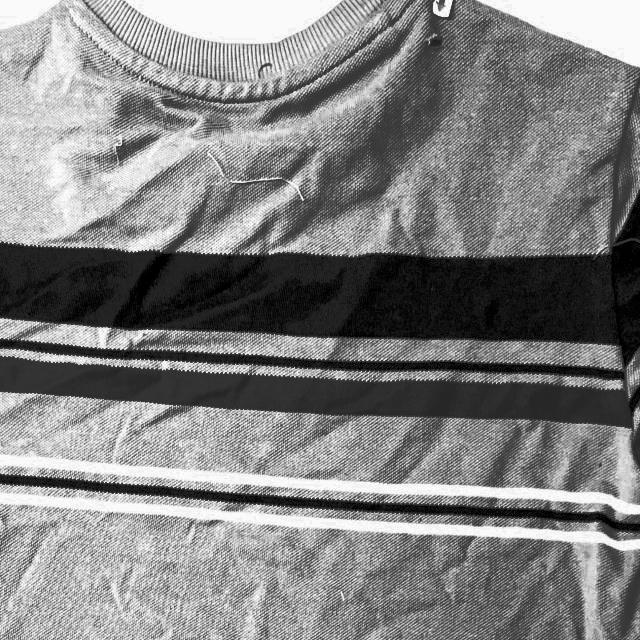Hole: (426, 30, 448, 54)
